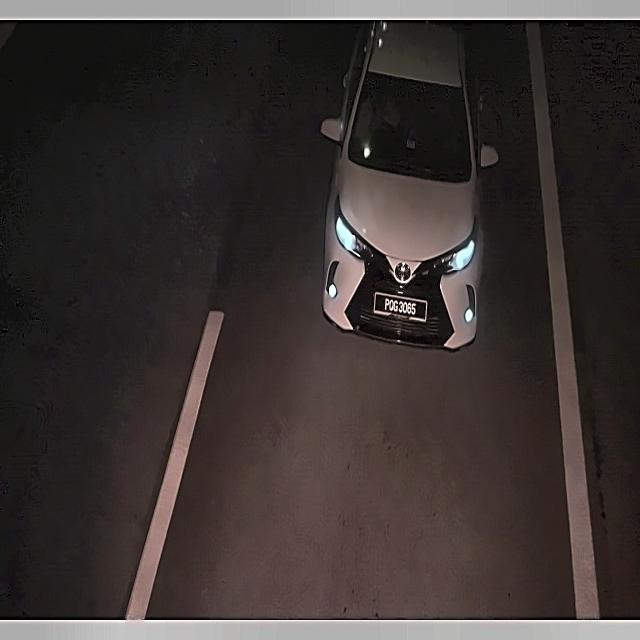car: (368, 284, 432, 324)
